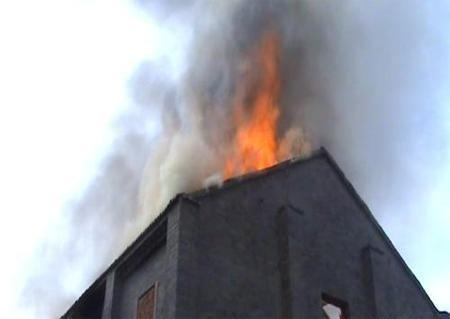fire: (217, 35, 292, 183)
